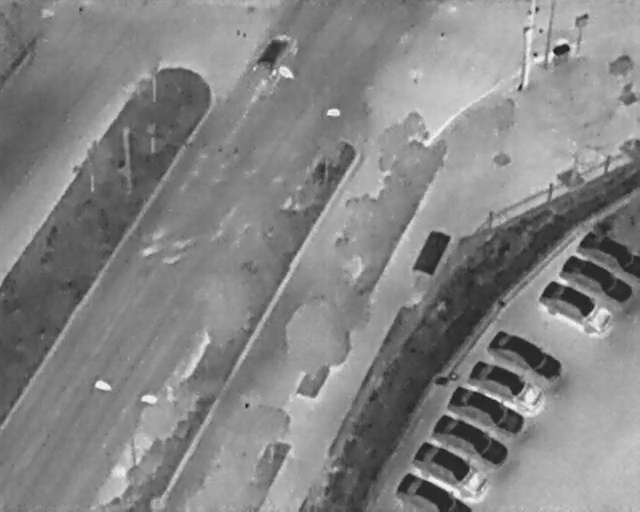Car: (532, 274, 620, 344), (407, 435, 493, 501), (428, 406, 514, 472), (482, 321, 568, 387), (444, 379, 531, 441), (464, 353, 551, 415), (556, 248, 637, 309), (396, 472, 472, 511), (574, 229, 639, 272)
OtherVehicle: (249, 25, 298, 81)
